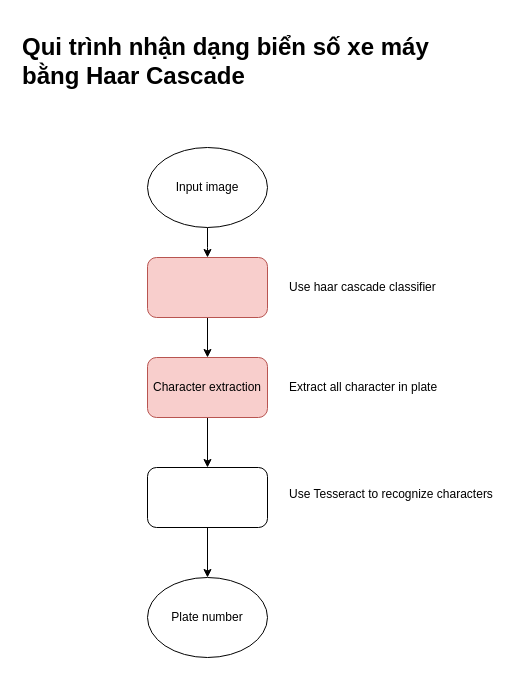
Some shapes in this 524 by 675 pixel diagram are drawn without their labels. The box of each missing label's shape, as (x1, y1, x2, y2) in pixels:
Character recognition: (146, 466, 268, 528)
Detect plate: (146, 256, 268, 318)
